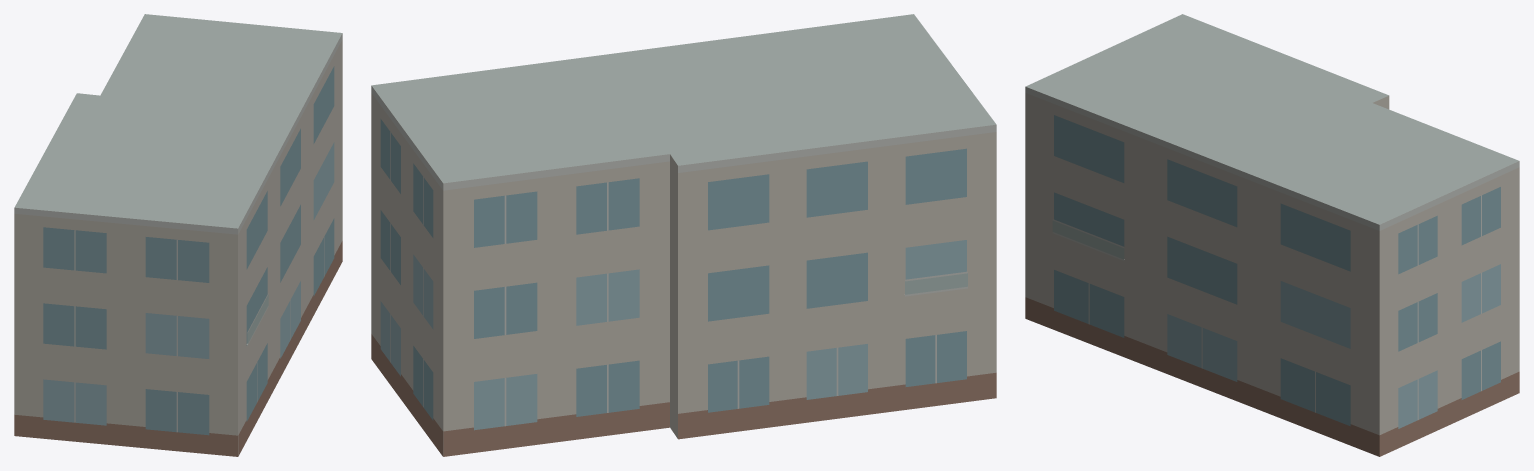
The model's file is survey-upis-32712101.glb.
3 views of the same model, side by side, from view 1: azimuth 30°, elevation 25°; view 2: azimuth 150°, elevation 25°; view 3: azimuth 270°, elevation 25° (orthographic). The views are drawn at different scales.
Visible parts, largest first — view 1: survey-upis-32712101.tmp; view 2: survey-upis-32712101.tmp; view 3: survey-upis-32712101.tmp.
Boxes of the visible parts, left/top/right/bottom form: survey-upis-32712101.tmp: left=14, top=14, right=342, bottom=456; survey-upis-32712101.tmp: left=371, top=14, right=996, bottom=456; survey-upis-32712101.tmp: left=1025, top=14, right=1519, bottom=456.
Bounding box in the file's own units: 17.84 × 9.15 × 17.67.
